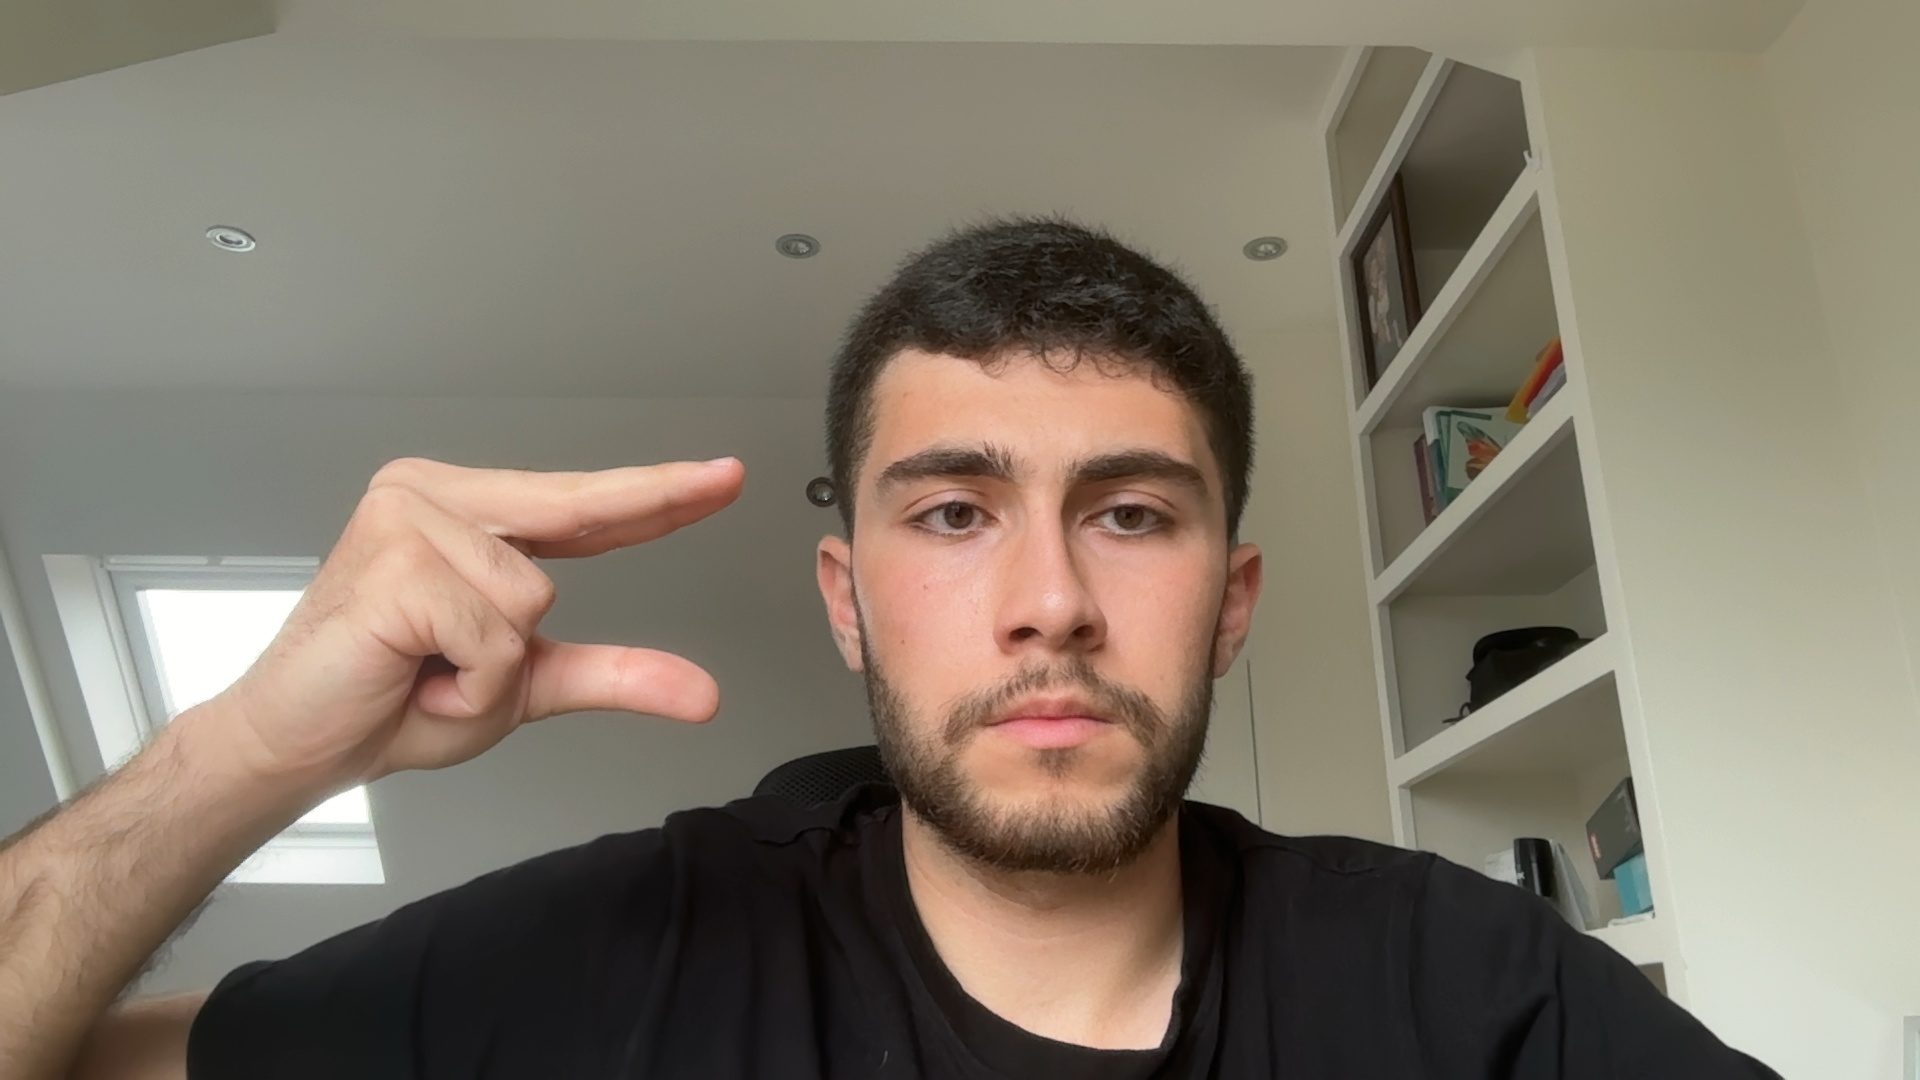no: (214, 431, 778, 793)
